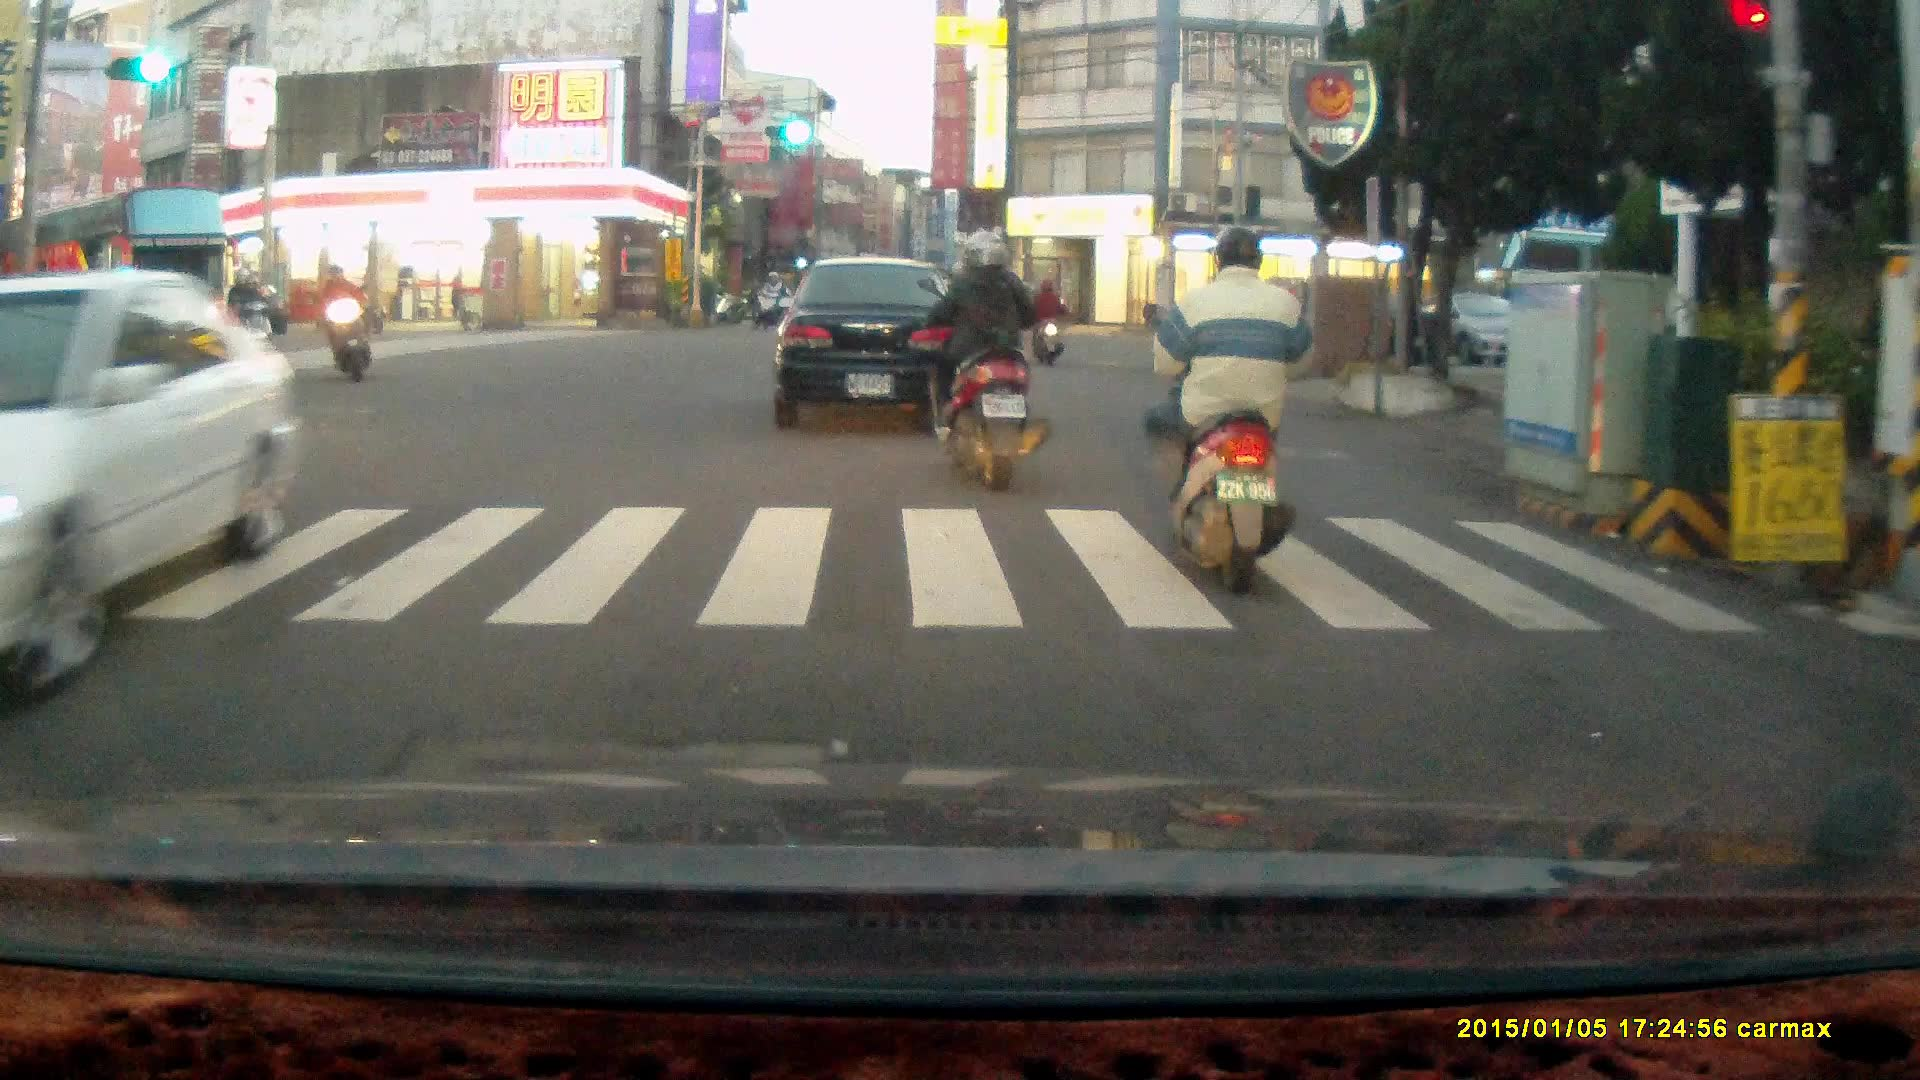rider: (1139, 224, 1299, 596), (917, 227, 1054, 495), (317, 262, 370, 382), (220, 267, 276, 378), (1023, 276, 1068, 369), (753, 270, 784, 329)
vehicle: (1, 270, 304, 700), (10, 188, 233, 354)
